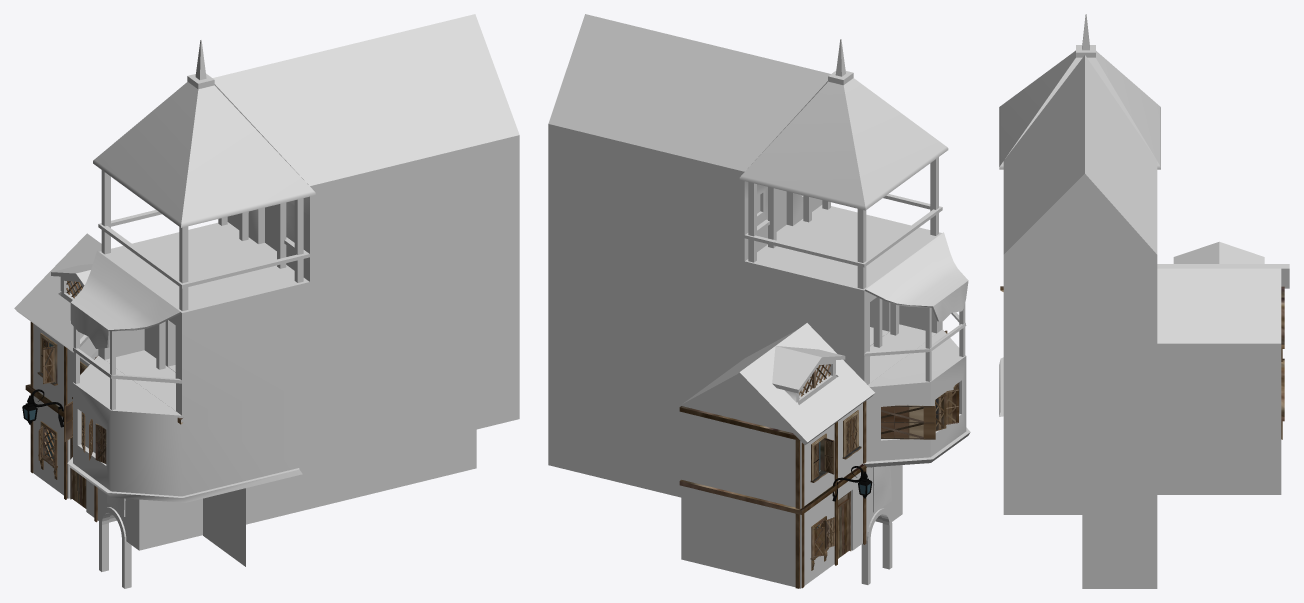
File: building1.dae
The picture shows the model from 3 angles, left to right: view 1: azimuth 30°, elevation 25°; view 2: azimuth 150°, elevation 25°; view 3: azimuth 270°, elevation 25°; orthographic projection. The views are drawn at different scales.
Visible parts, largest first — view 1: Building1.013; view 2: Building1.013; view 3: Building1.013.
Boxes of the visible parts, box(x1,y1,x2,y2) form: Building1.013: box(14, 14, 519, 588); Building1.013: box(548, 14, 970, 588); Building1.013: box(999, 14, 1289, 588).
Size of the model in its own units: 14.74 by 10.3 by 19.38.
4 materials, 1 textured.
